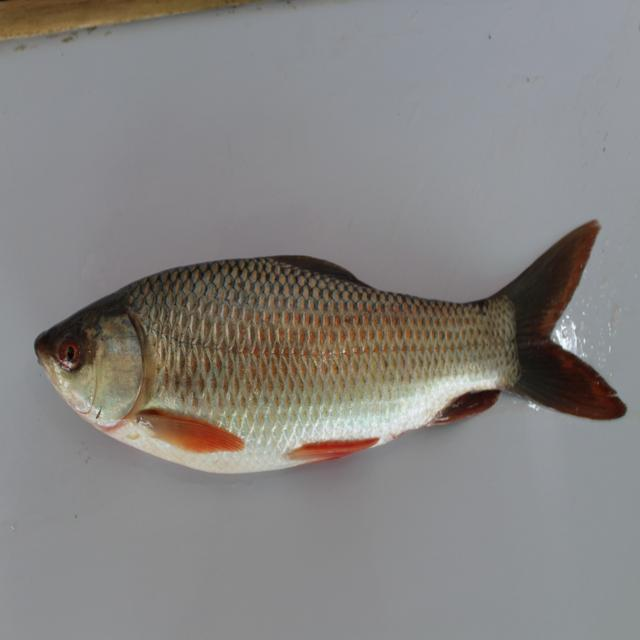Rohu: (22, 224, 640, 500)
